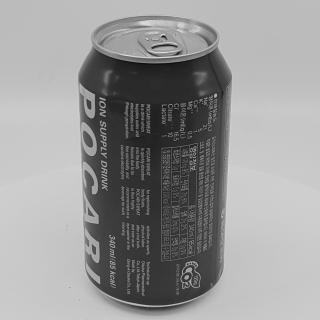alumunium_can: (73, 13, 237, 315)
